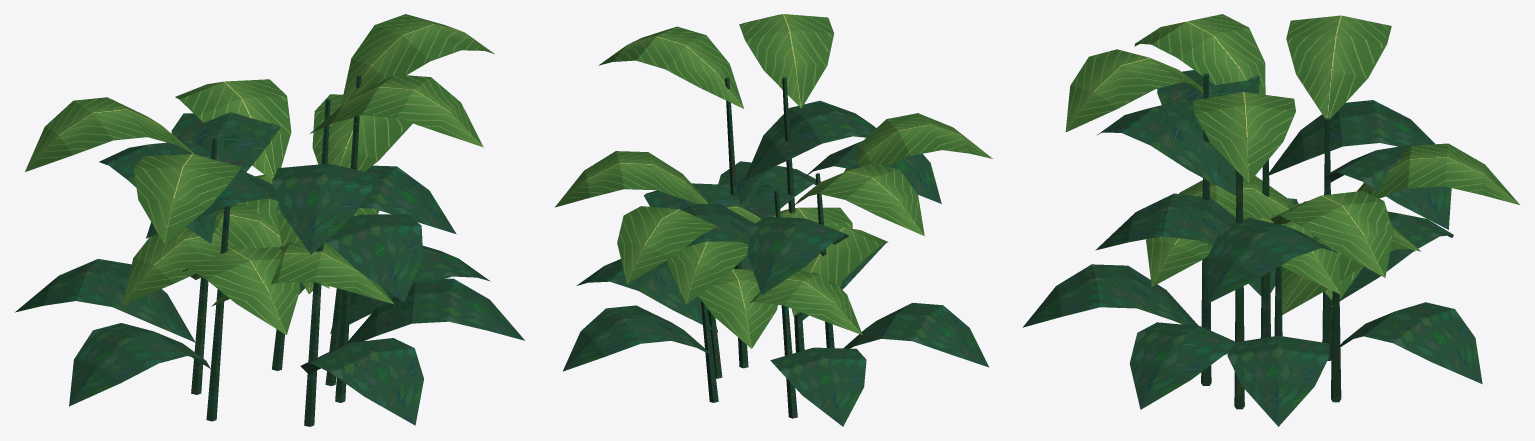
The model's file is thicket.glb.
The picture shows the model from 3 angles, left to right: view 1: azimuth 30°, elevation 25°; view 2: azimuth 150°, elevation 25°; view 3: azimuth 270°, elevation 25°; orthographic projection. The views are drawn at different scales.
Parts seen in each view (by area): view 1: GreenStem; view 2: GreenStem; view 3: GreenStem.
Part boxes in pixels (bbox=[...]): GreenStem: bbox=[15, 14, 524, 426]; GreenStem: bbox=[555, 14, 992, 426]; GreenStem: bbox=[1023, 14, 1519, 426].
Size of the model in its own units: 2.32 by 1.75 by 2.27.
2 materials, 2 textured.
